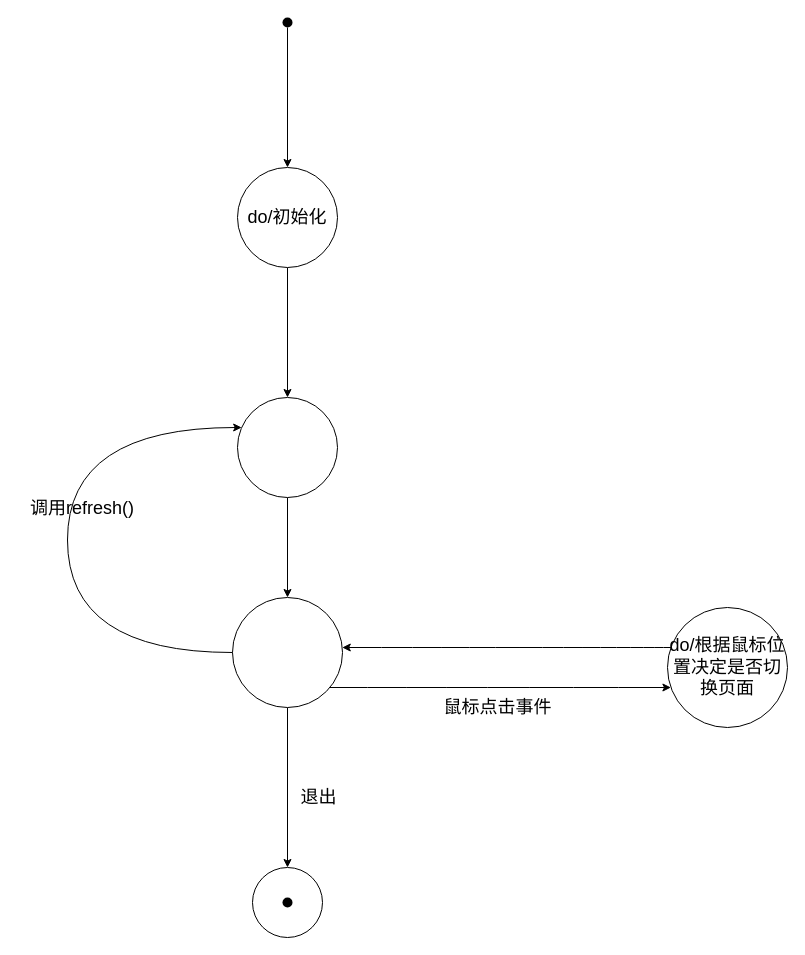
This 805x955 diagram has some shape labels left out. The shapes that lost their labels are listed below. From the top down, each one's centre as x and y in pixels, then its label:
At (x=287, y=447): "do/刷新".
At (x=287, y=652): "do/显示并等待".
